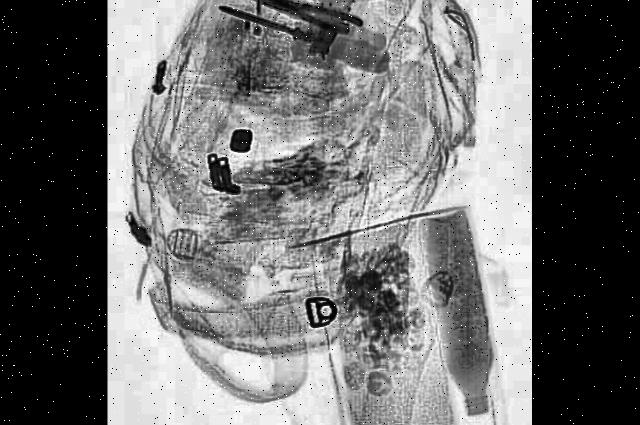Pliers: (229, 0, 362, 44)
